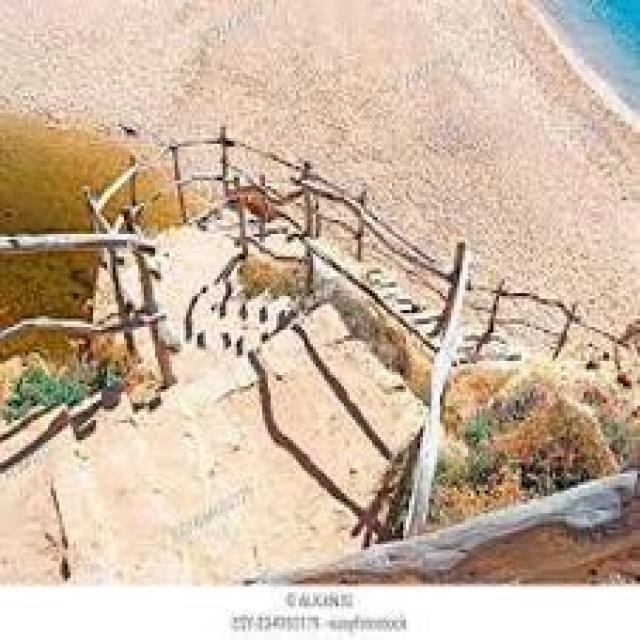downstair: (35, 382, 334, 571)
